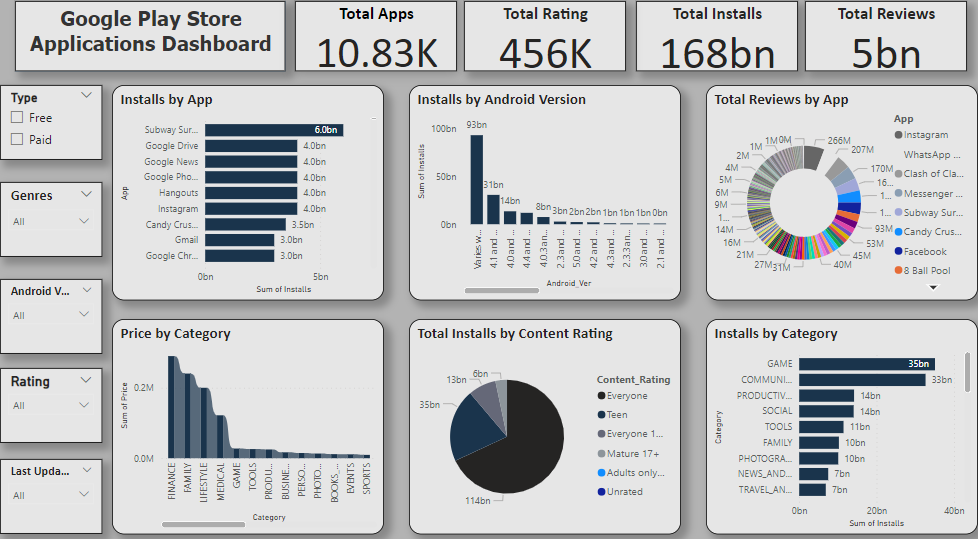

The dashboard page shown, as its layout file describes it:
{"tool":"powerbi","page":{"name":"Play Store App","canvas":[1280,720],"ordinal":0},"visuals":[{"type":"shape","box":[20.2,10.1,354.2,92.2],"z":0},{"type":"textbox","box":[20.2,10.1,354,92],"z":1000},{"type":"card","title":"Total Apps","fields":{"Values":["CountNonNull(pythonproject.App)"]},"box":[385.9,10.1,211.7,92.2],"z":2000},{"type":"card","title":"Total Installs","fields":{"Values":["Sum(pythonproject.Installs)"]},"box":[832.3,10.1,211.7,92.2],"z":3000},{"type":"card","title":"Total Reviews","fields":{"Values":["Sum(pythonproject.Reviews)"]},"box":[1054.1,10.1,211.7,92.2],"z":4000},{"type":"card","title":"Total Rating","fields":{"Values":["Sum(pythonproject.Rating)"]},"box":[607.7,10.1,211.7,92.2],"z":5000},{"type":"slicer","fields":{"Values":["pythonproject.Type"]},"box":[0,121,133.9,97.9],"z":6000},{"type":"slicer","fields":{"Values":["pythonproject.Genres"]},"box":[0,247.7,133.9,97.9],"z":7000},{"type":"slicer","fields":{"Values":["pythonproject.Android_Ver"]},"box":[0,374.4,133.9,97.9],"z":8000},{"type":"slicer","fields":{"Values":["pythonproject.Rating"]},"box":[0,491,133.9,97.9],"z":9000},{"type":"slicer","fields":{"Values":["pythonproject.Last_Updated"]},"box":[0,610.6,133.9,97.9],"z":10000},{"type":"donutChart","title":"Total Reviews by App ","fields":{"Y":["Sum(pythonproject.Reviews)"],"Category":["pythonproject.App"]},"box":[924.5,121,355.7,282.2],"z":11000},{"type":"clusteredBarChart","title":"Installs by App","fields":{"Category":["pythonproject.App"],"Y":["Sum(pythonproject.Installs)"]},"box":[146.9,121,355.7,282.2],"z":12000},{"type":"clusteredColumnChart","title":"Installs by Android Version","fields":{"Category":["pythonproject.Android_Ver"],"Y":["Sum(pythonproject.Installs)"]},"box":[535.7,121,355.7,282.2],"z":13000},{"type":"ribbonChart","title":"Price by Category","fields":{"Category":["pythonproject.Category"],"Y":["Sum(pythonproject.Price)"]},"box":[146.9,426.2,355.7,282.2],"z":14000},{"type":"pieChart","title":"Total Installs by Content Rating","fields":{"Y":["Sum(pythonproject.Installs)"],"Category":["pythonproject.Content_Rating"]},"box":[535.7,426.2,355.7,282.2],"z":15000},{"type":"barChart","title":"Installs by Category","fields":{"Category":["pythonproject.Category"],"Y":["Sum(pythonproject.Installs)"]},"box":[924.5,426.2,355.7,282.2],"z":16000}]}

Visuals, with their boxes in screenshot pixels (x1, y1, x2, y2), scaled from the page's 1280x720 canvas onto the 978x539 screenshot:
shape: [15, 8, 286, 77]
textbox: [15, 8, 286, 76]
"Total Apps" card: [295, 8, 457, 77]
"Total Installs" card: [636, 8, 798, 77]
"Total Reviews" card: [805, 8, 967, 77]
"Total Rating" card: [464, 8, 626, 77]
slicer - pythonproject.Type: [0, 91, 102, 164]
slicer - pythonproject.Genres: [0, 185, 102, 259]
slicer - pythonproject.Android_Ver: [0, 280, 102, 354]
slicer - pythonproject.Rating: [0, 368, 102, 441]
slicer - pythonproject.Last_Updated: [0, 457, 102, 530]
"Total Reviews by App " donutChart: [706, 91, 977, 302]
"Installs by App" clusteredBarChart: [112, 91, 384, 302]
"Installs by Android Version" clusteredColumnChart: [409, 91, 681, 302]
"Price by Category" ribbonChart: [112, 319, 384, 530]
"Total Installs by Content Rating" pieChart: [409, 319, 681, 530]
"Installs by Category" barChart: [706, 319, 977, 530]
